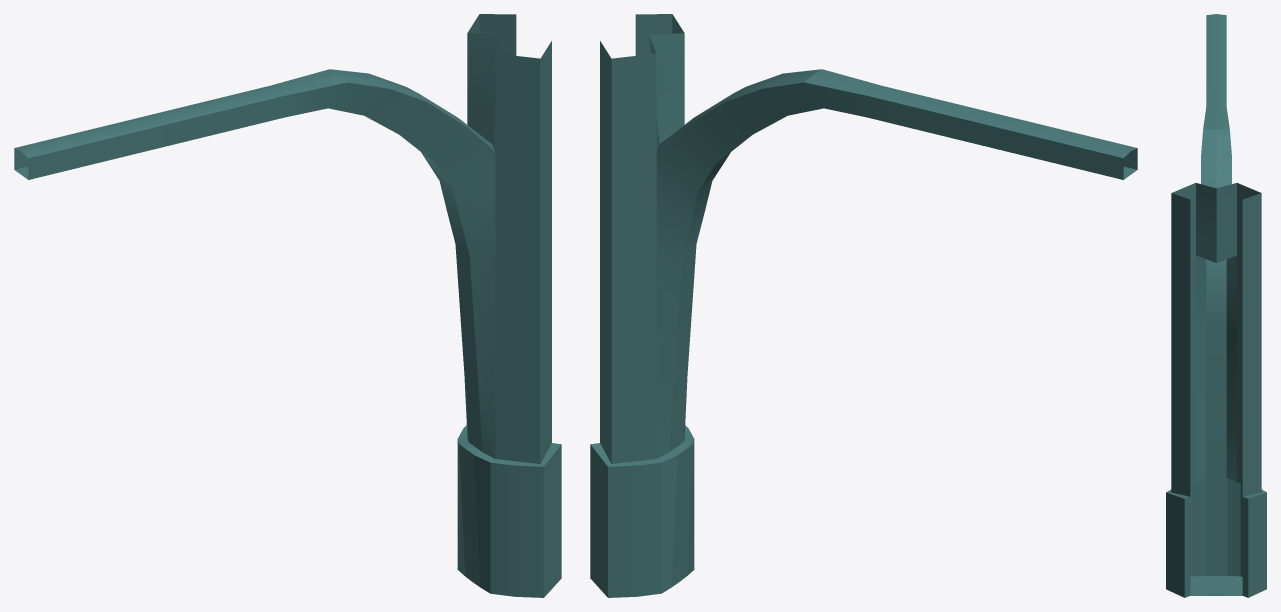
The model's file is Arch_FlatTop.fbx.
3 views of the same model, side by side, from view 1: azimuth 30°, elevation 25°; view 2: azimuth 150°, elevation 25°; view 3: azimuth 270°, elevation 25° (orthographic). The views are drawn at different scales.
Parts seen in each view (by area): view 1: Arch_FlatTop; view 2: Arch_FlatTop; view 3: Arch_FlatTop.
Part boxes in pixels (x1,y1,x2,y2): Arch_FlatTop: (14,14,561,597); Arch_FlatTop: (590,14,1137,597); Arch_FlatTop: (1166,14,1266,597).
Bounding box in the file's own units: 405 × 403 × 92.24.
